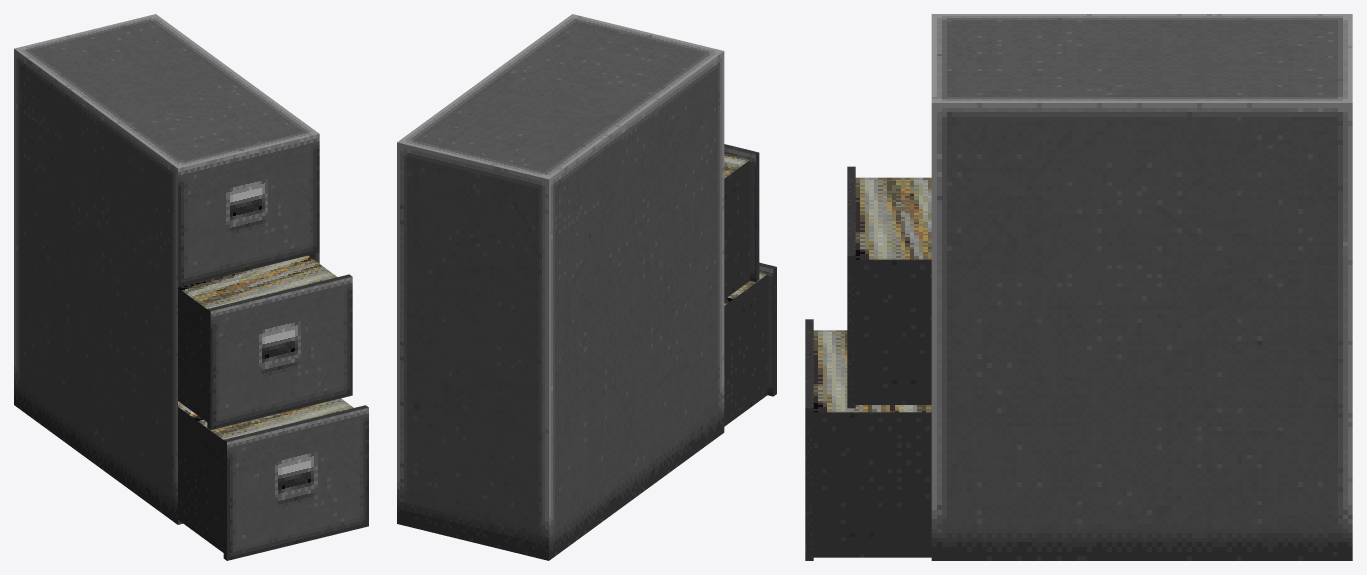
Rendered from file_cabinet02.glb.
3 renders of one model, left to right at view 1: azimuth 30°, elevation 25°; view 2: azimuth 150°, elevation 25°; view 3: azimuth 270°, elevation 25°, orthographic. The views are drawn at different scales.
Parts seen in each view (by area): view 1: file_cabinet02; view 2: file_cabinet02; view 3: file_cabinet02.
Part boxes in pixels (x1,y1,x2,y2): file_cabinet02: [14, 14, 368, 560]; file_cabinet02: [397, 14, 776, 560]; file_cabinet02: [805, 14, 1352, 560].
Bounding box in the file's own units: 0.5 × 1.2 × 1.3.
1 material, 1 textured.
